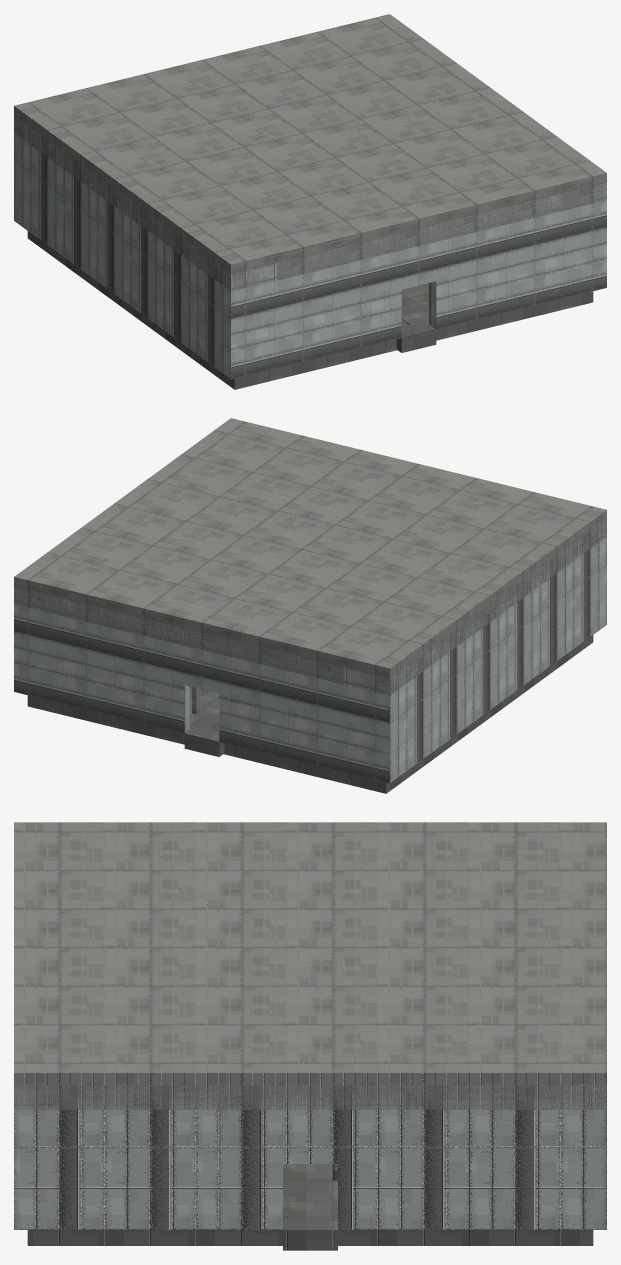
File: shell_junction_triad.glb
3 renders of one model, top to bottom at view 1: azimuth 30°, elevation 25°; view 2: azimuth 150°, elevation 25°; view 3: azimuth 270°, elevation 25°, orthographic. The views are drawn at different scales.
Parts seen in each view (by area): view 1: tri; view 2: tri; view 3: tri.
Boxes of the visible parts, box(x1,y1,x2,y2) form: tri: box(14, 14, 606, 389); tri: box(14, 418, 606, 793); tri: box(14, 822, 606, 1250).
Size of what is drawn, in the model's own units: 26 by 8.66 by 26.
5 materials, 5 textured.
